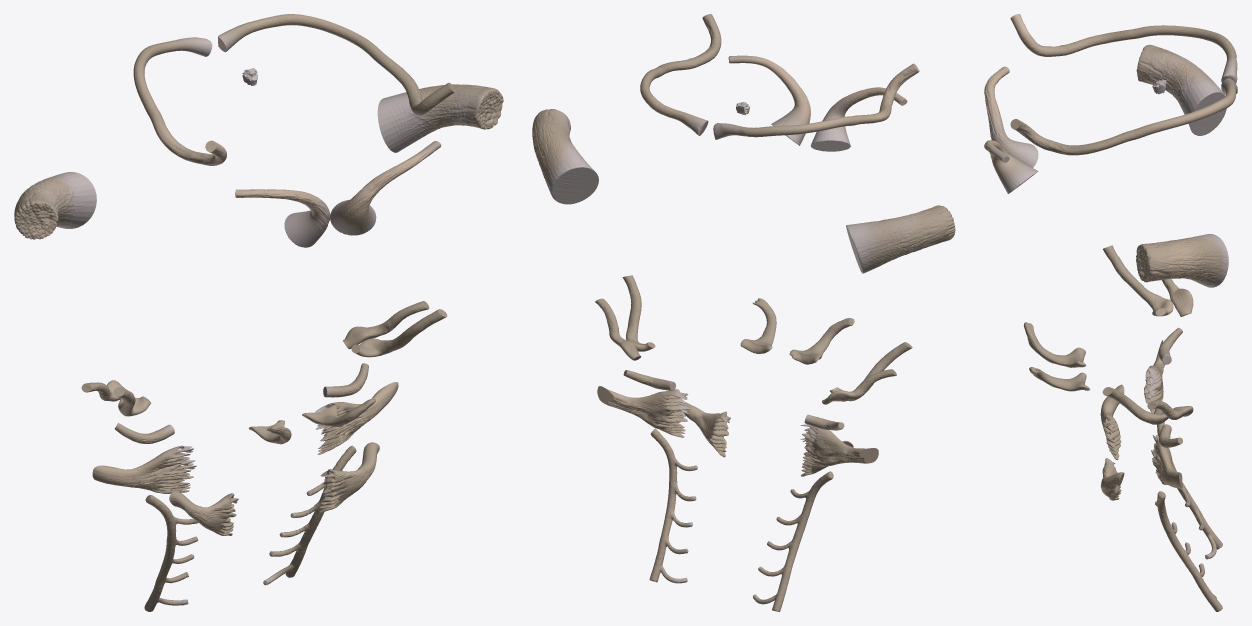
The model's file is CrainialNerves.glb.
The picture shows the model from 3 angles, left to right: view 1: azimuth 30°, elevation 25°; view 2: azimuth 150°, elevation 25°; view 3: azimuth 270°, elevation 25°; orthographic projection. The views are drawn at different scales.
Parts seen in each view (by area): view 1: Brainstem (Cranial Nerves) 1; view 2: Brainstem (Cranial Nerves) 1; view 3: Brainstem (Cranial Nerves) 1.
Part boxes in pixels (x1,y1,x2,y2): Brainstem (Cranial Nerves) 1: (14, 14, 503, 611); Brainstem (Cranial Nerves) 1: (532, 14, 955, 611); Brainstem (Cranial Nerves) 1: (984, 14, 1237, 611).
Size of the model in its own units: 25.32 by 27.97 by 12.53.
